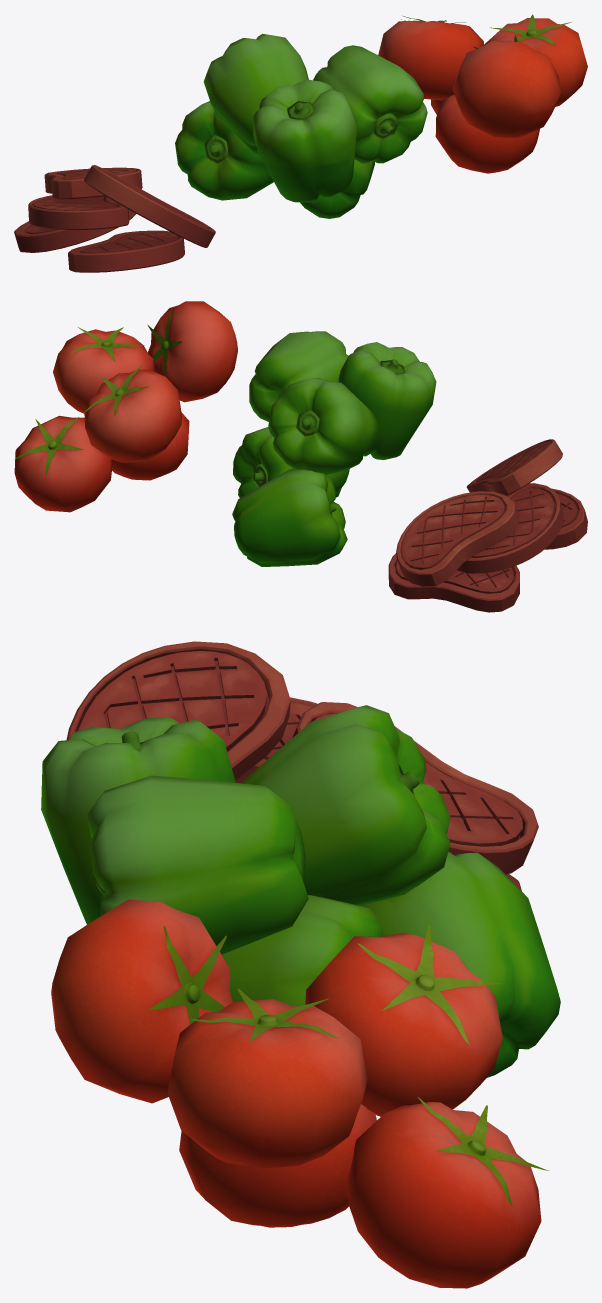
File: JapaneseRestaurant_FoodA.fbx
3 renders of one model, top to bottom at view 1: azimuth 30°, elevation 25°; view 2: azimuth 150°, elevation 25°; view 3: azimuth 270°, elevation 25°, orthographic. The views are drawn at different scales.
Parts seen in each view (by area): view 1: JapaneseRestaurant_FoodA; view 2: JapaneseRestaurant_FoodA; view 3: JapaneseRestaurant_FoodA.
Part boxes in pixels (x1,y1,x2,y2): JapaneseRestaurant_FoodA: [14, 14, 587, 272]; JapaneseRestaurant_FoodA: [14, 301, 587, 612]; JapaneseRestaurant_FoodA: [41, 641, 560, 1288].
Bounding box in the file's own units: 51.51 × 16.42 × 23.01.
